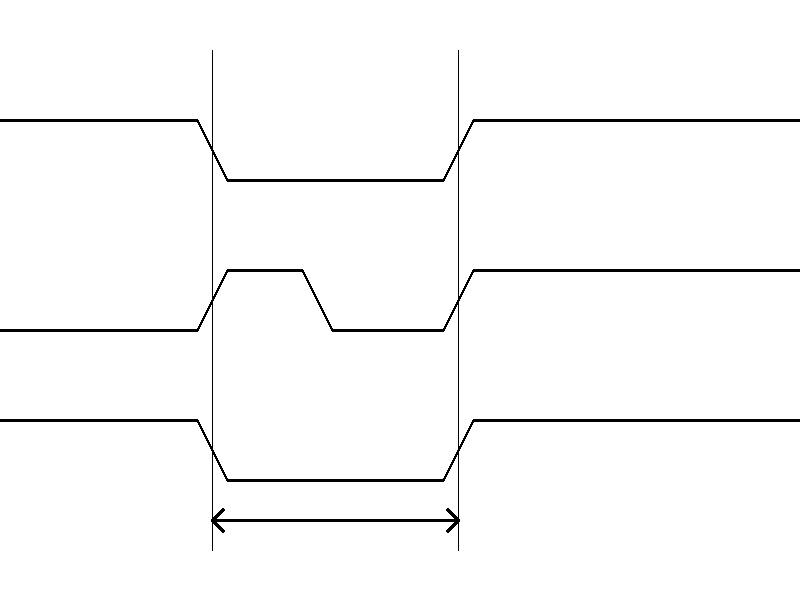double_arrow: (212, 505, 458, 535)
